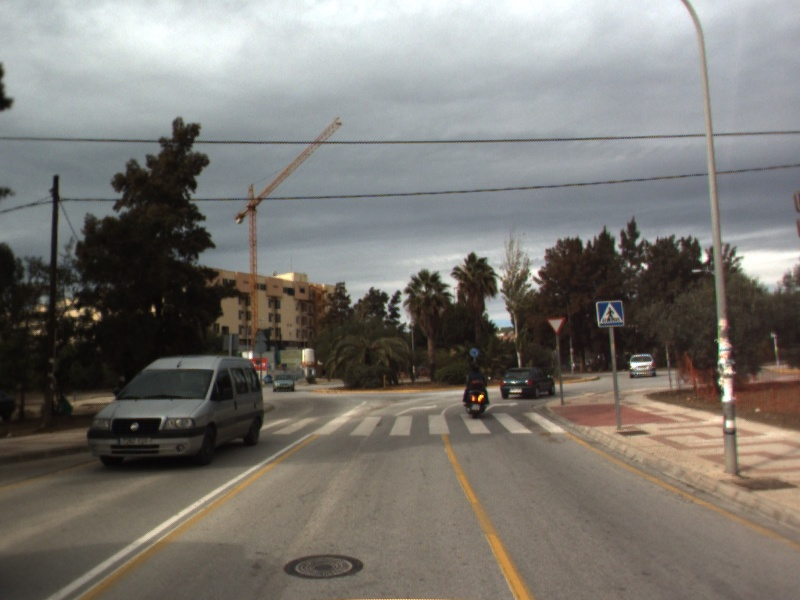RIGHT: (392, 402, 439, 418), (482, 399, 521, 414)
